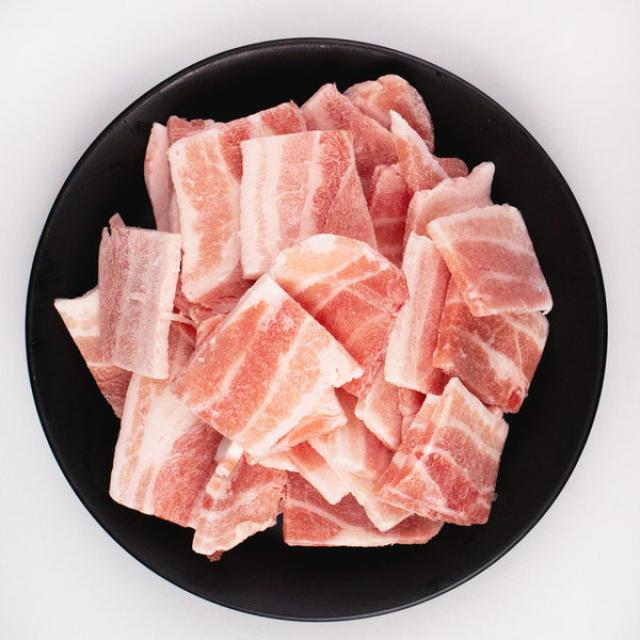pork: (38, 46, 582, 568)
